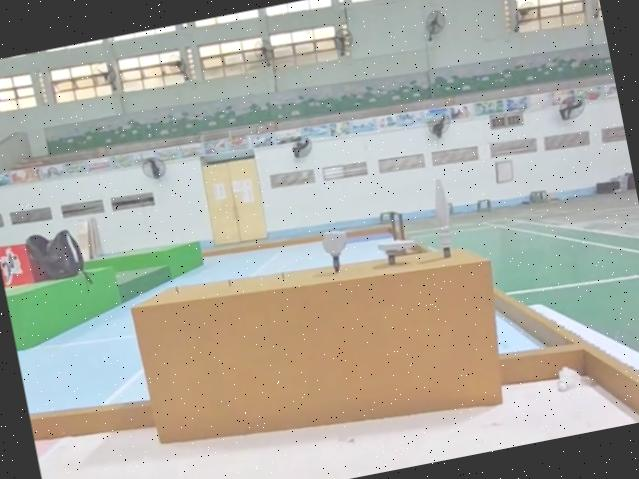Fist: (320, 227, 352, 273)
Hand: (369, 236, 408, 270)
Sph: (422, 173, 458, 257)
